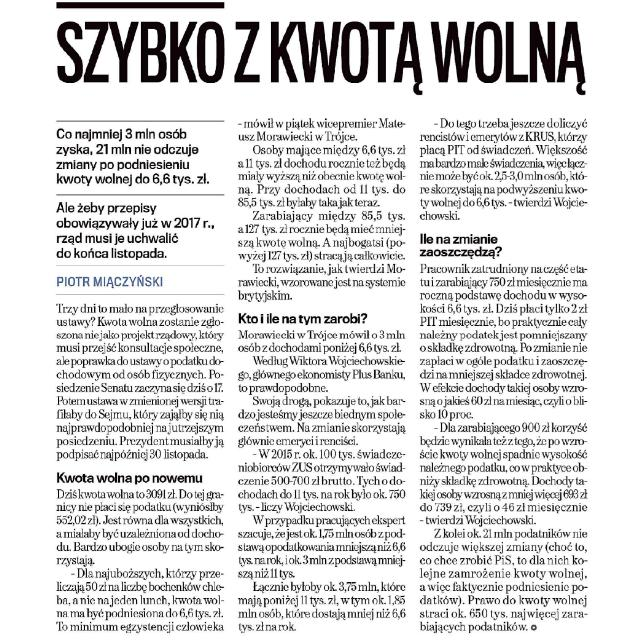author: (52, 270, 172, 292)
body: (232, 117, 412, 636), (416, 114, 590, 636), (51, 297, 229, 635)
lead: (52, 124, 222, 262)
title: (56, 12, 588, 98)
